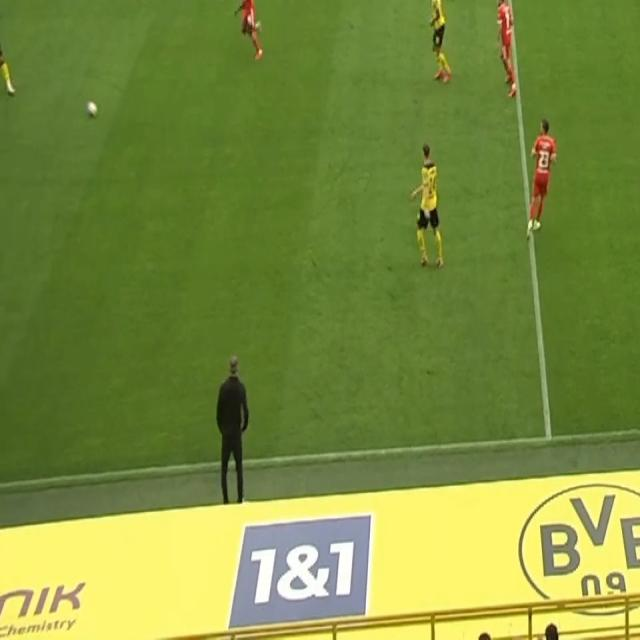ball: (85, 99, 98, 121)
